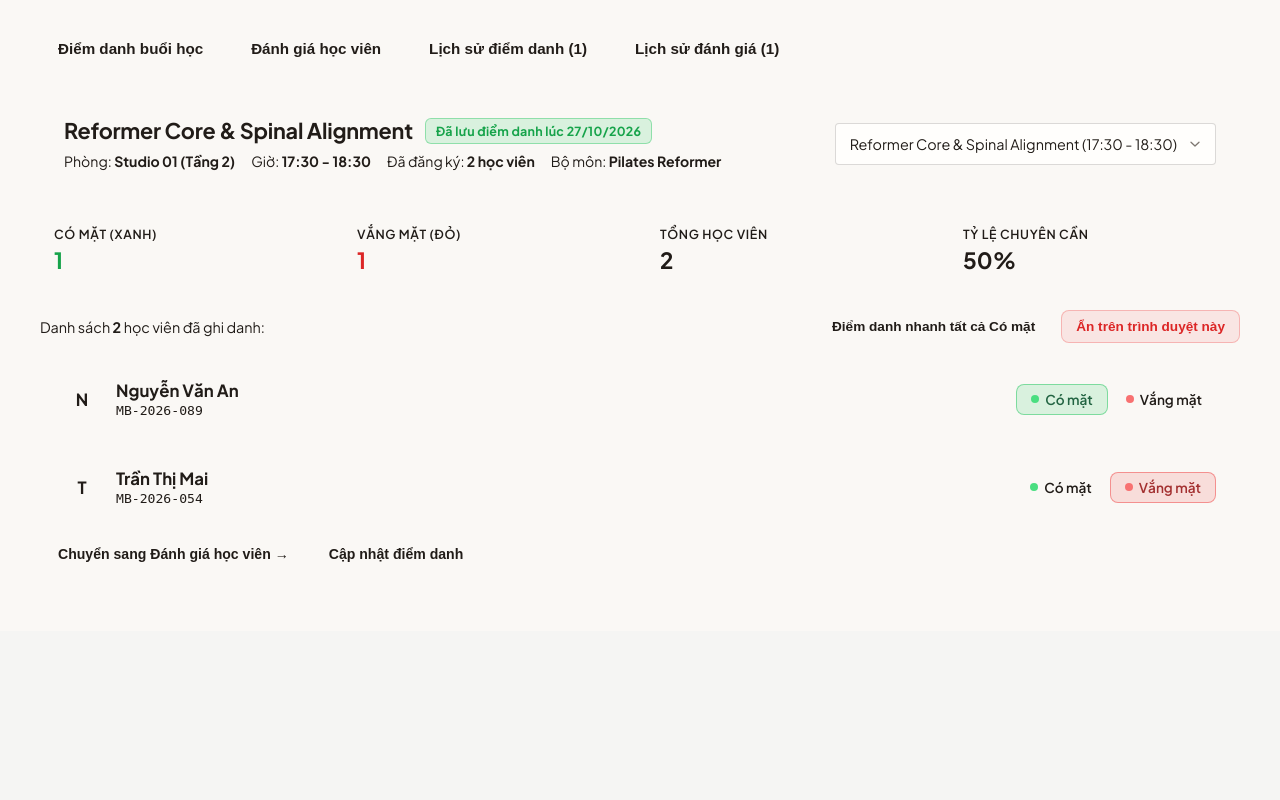
Test: CoachAttendancePage (SCRUM-123: HLV Điểm danh, Đánh giá & Lịch sử sửa trực tiếp bằng Modal) › tab Lịch sử đánh giá allows opening modal to edit progress evaluation directly
Note: Switch to tab "Lịch sử đánh giá"
Click the button with class "attendance-tab-btn" showing "Lịch sử đánh giá (1)" at (707, 48), box 617,32 -> 797,65
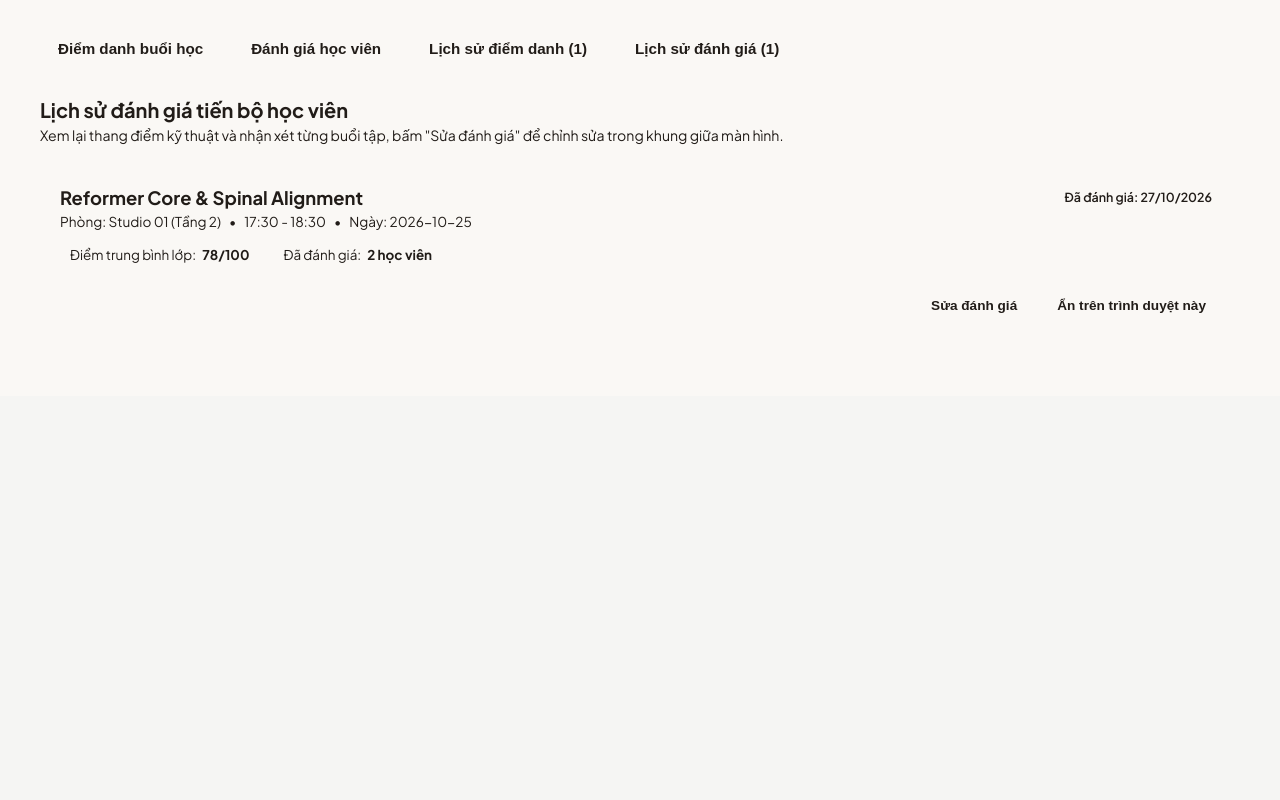
Expected: the text "Lịch sử đánh giá tiến bộ học viên" is shown, 40,97 -> 348,122
Expected: the button with class "btn-history-edit" is shown
Note: Click "Sửa đánh giá"
Click the button with class "btn-history-edit" at (974, 306), box 915,291 -> 1033,320
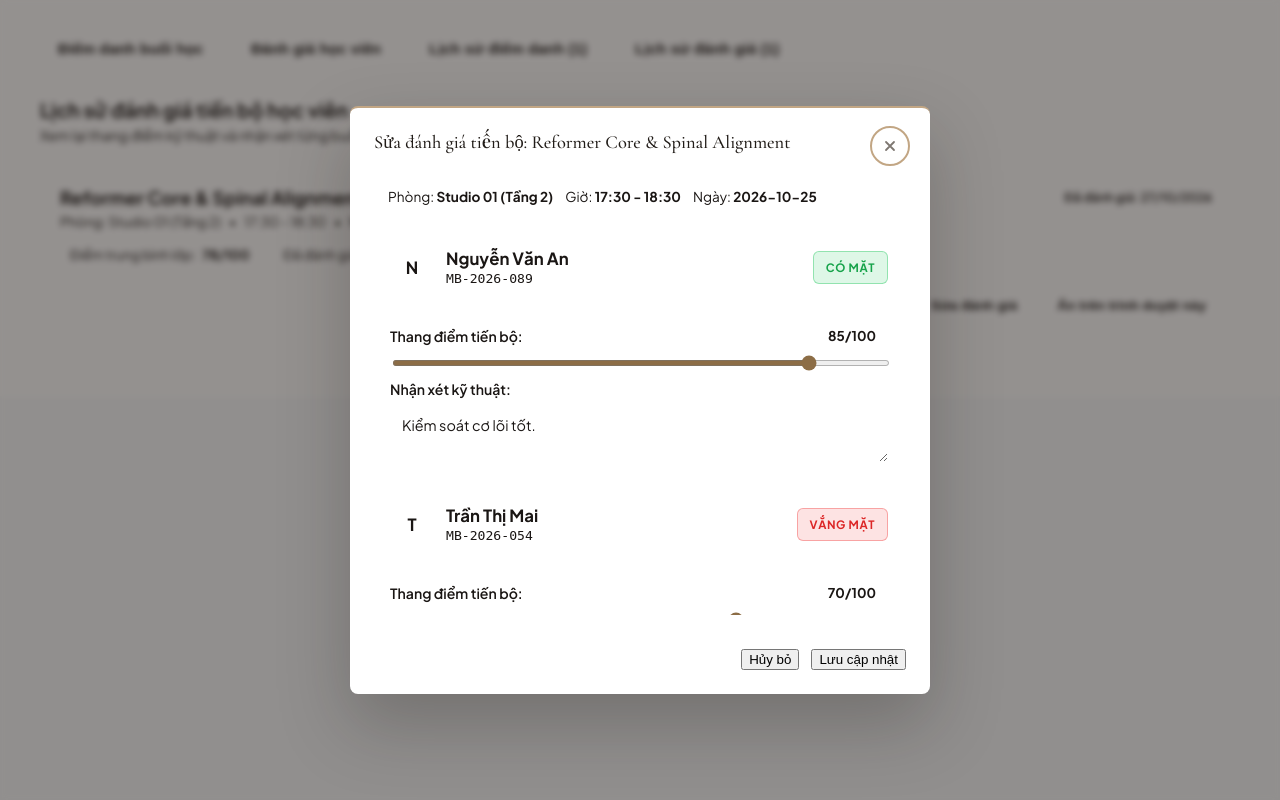
Expected: the text "Sửa đánh giá tiến bộ: Reformer Core & Spinal Alignment" is shown, 374,130 -> 860,155
Expected: the element with class "modal-eval-student-item" that starts with "Nguyễn Văn An" is shown, 374,231 -> 904,476
Click the button with class "btn-modal-save" at (859, 660), box 811,649 -> 906,670
Wait 50 ms
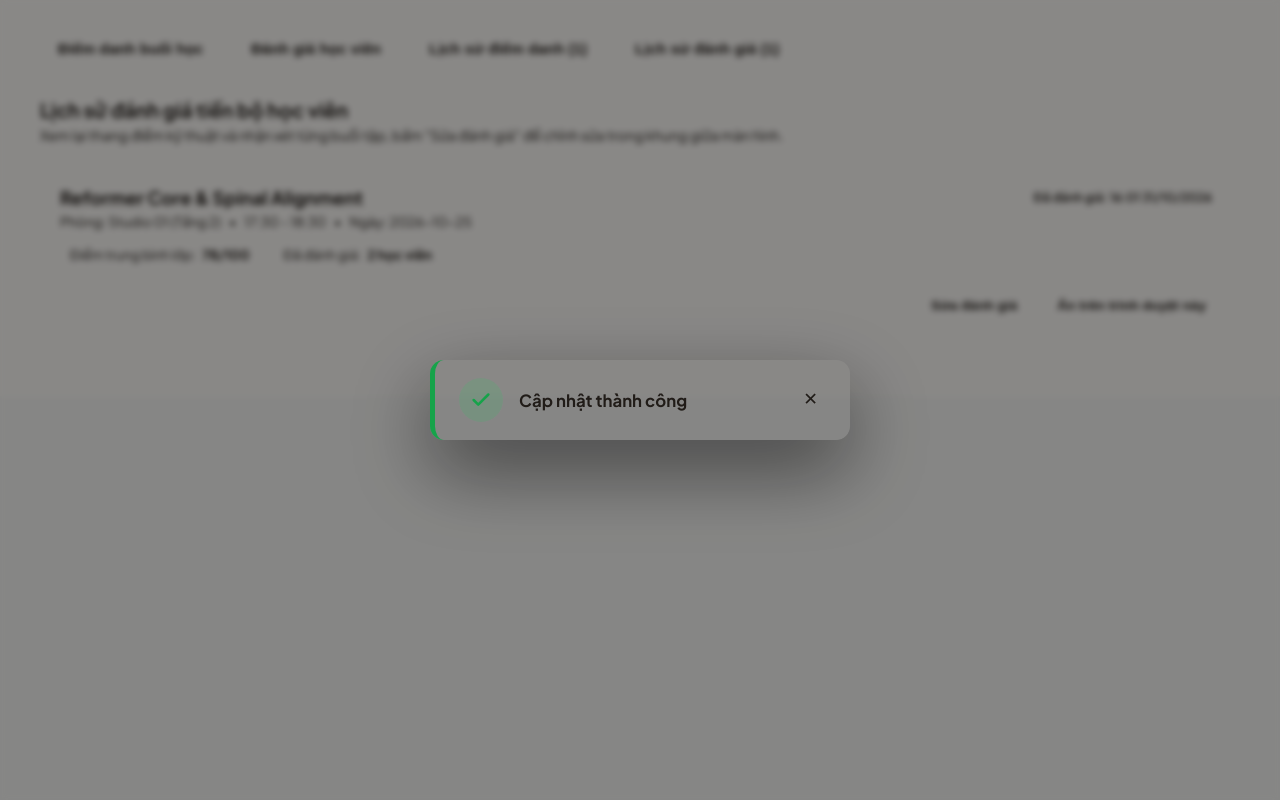
Expected: the heading with class "center-toast-title" reads "Cập nhật thành công", 519,390 -> 687,410
